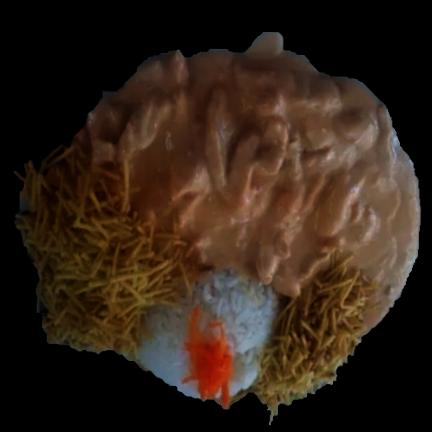carrot: (181, 333, 231, 398)
chicken: (71, 34, 418, 337)
potato: (19, 137, 192, 353), (254, 262, 381, 418)
rice: (133, 269, 281, 405)
